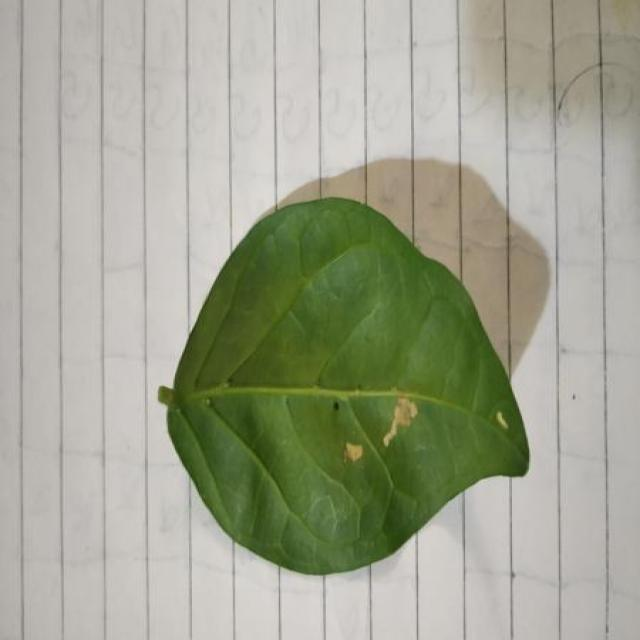Jasmine: (158, 199, 528, 574)
